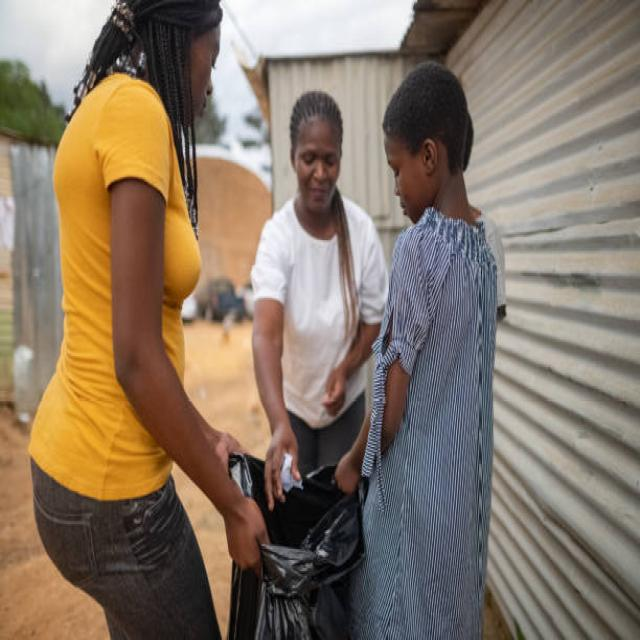trash: (236, 455, 374, 640)
